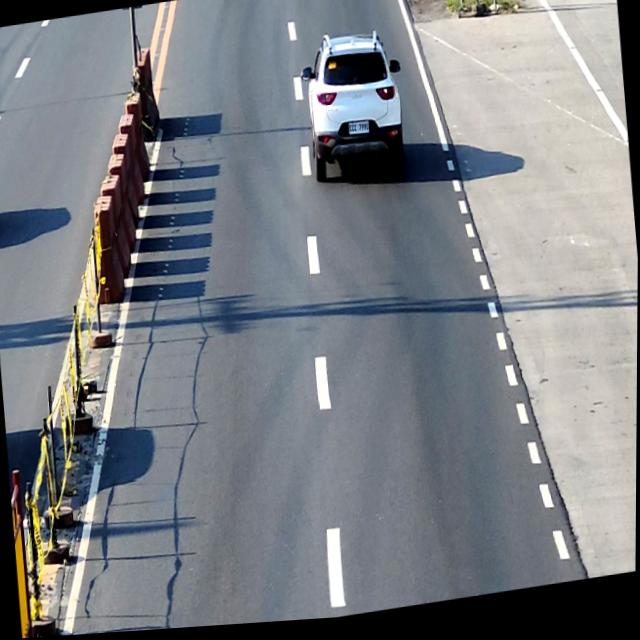Car: (298, 28, 410, 199)
License-Plate: (348, 124, 370, 141)
